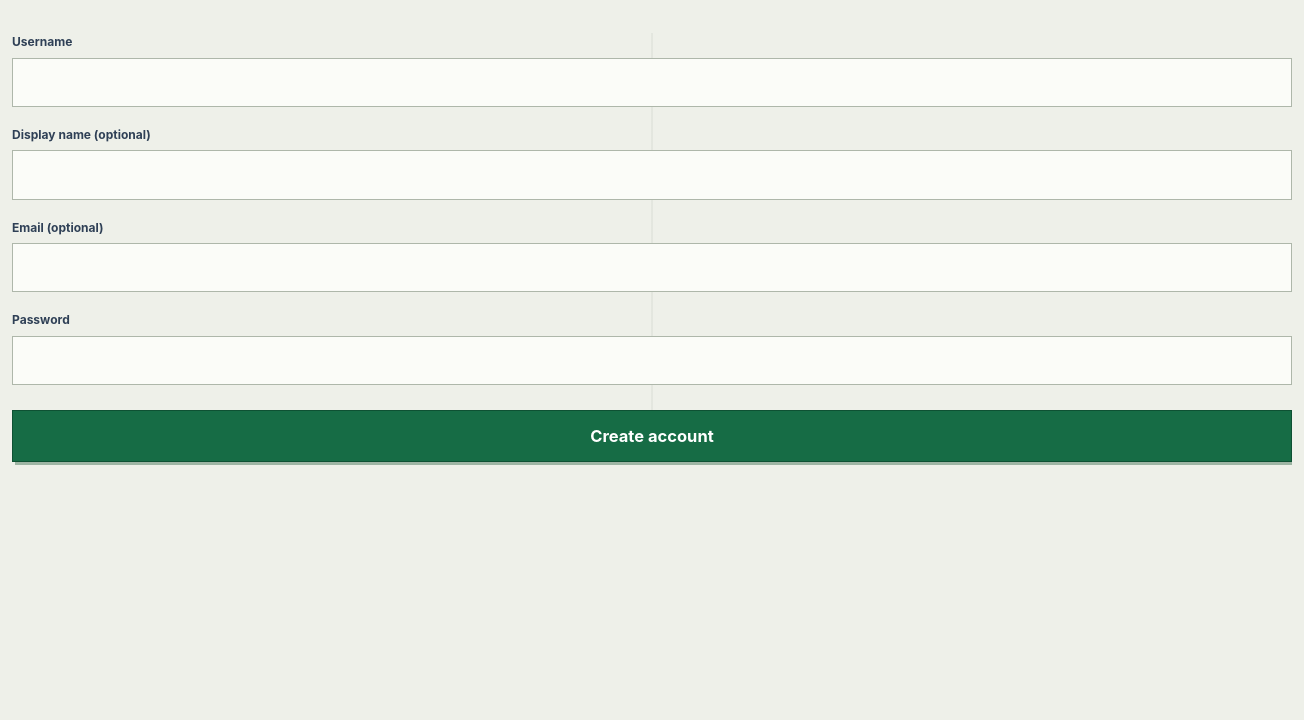
it: RegisterForm › renders username conflicts safely
Type "alice.dev" into the field labelled "Username" at (652,82), box x1=12 y1=58 x2=1292 y2=107
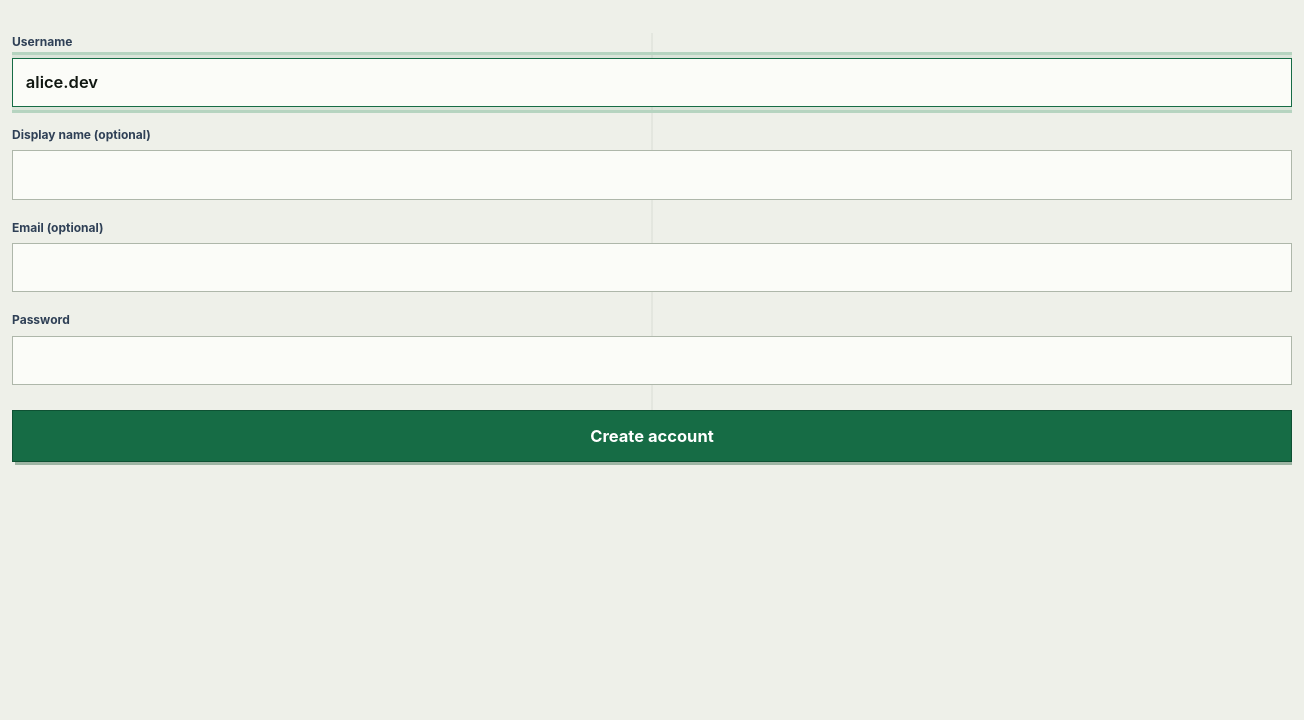
Type "correct-horse-battery-staple" into the password field labelled "Password" at (652,361), box x1=12 y1=336 x2=1292 y2=385
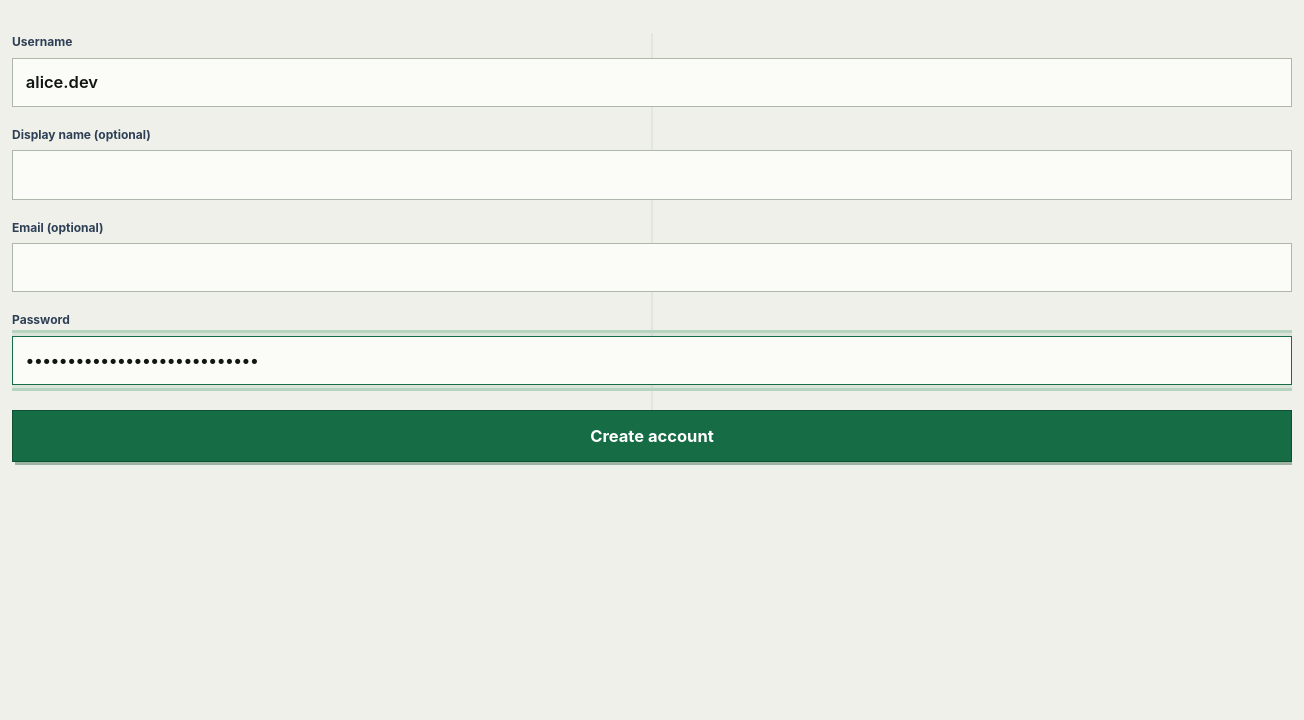
Click the button "Create account" at (652,436), box x1=12 y1=410 x2=1292 y2=462
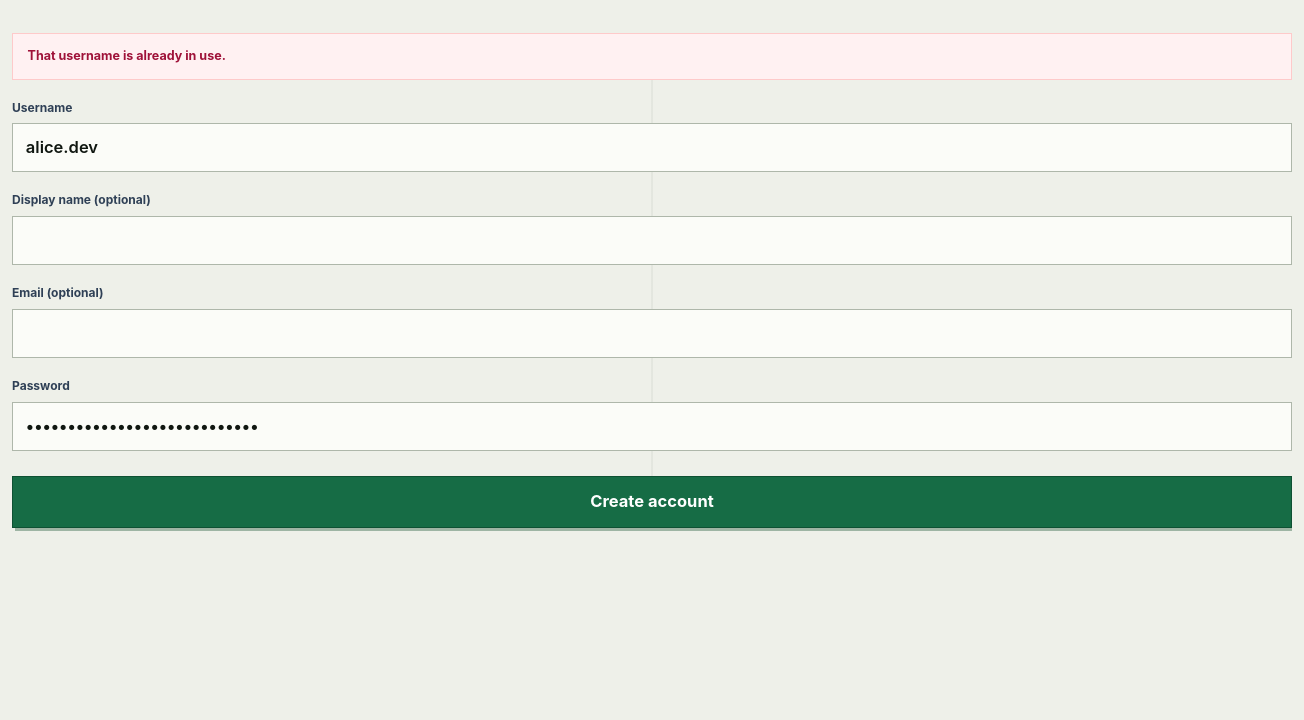
Expected: the message reads "That username is already in use.", x1=28 y1=48 x2=226 y2=63
